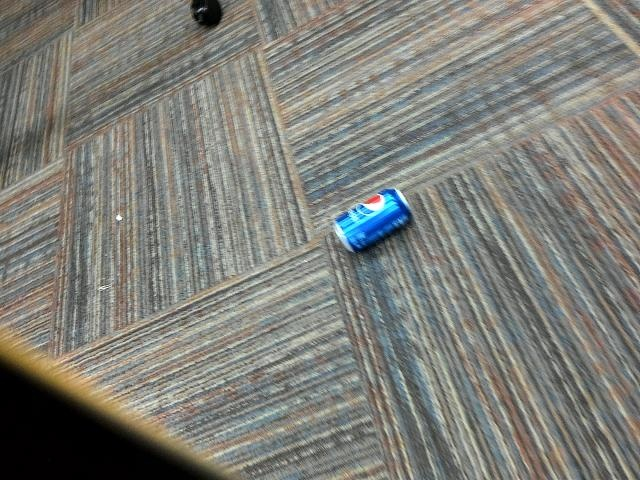can: (309, 170, 421, 256)
